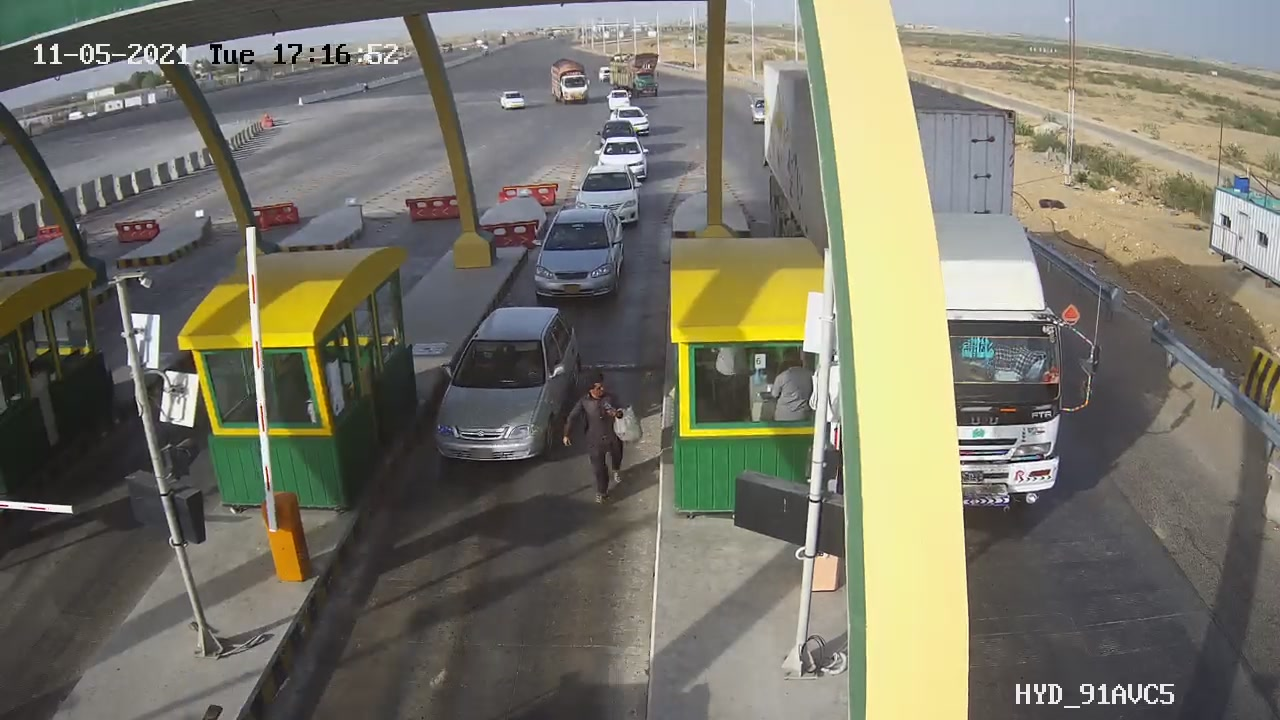F1: (418, 292, 594, 479), (520, 199, 640, 305)
